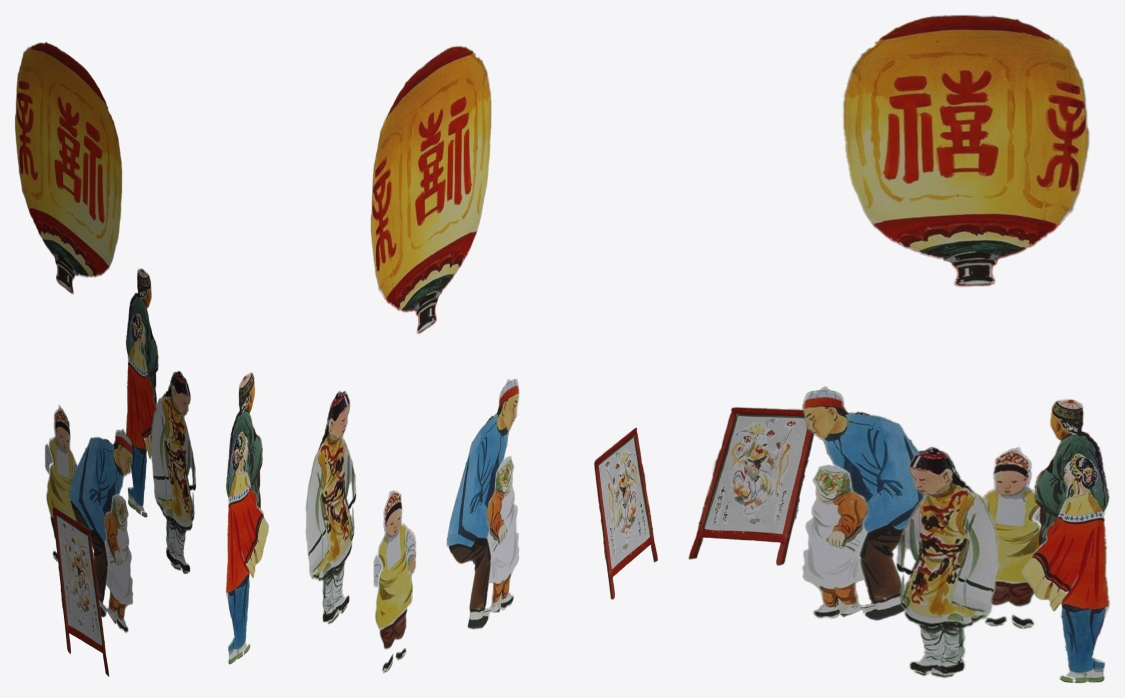
Rendered from jlee.glb.
3 views of the same model, side by side, from view 1: azimuth 30°, elevation 25°; view 2: azimuth 150°, elevation 25°; view 3: azimuth 270°, elevation 25° (orthographic). The views are drawn at different scales.
Visible parts, largest first — view 1: Chinese-Opera-1565907847218-ChinatownTheater_6_0000_Layer-1, Chinese-Opera-1565907847218-ChinatownTheater_6_0006_Layer-7, Chinese-Opera-1565907847218-ChinatownTheater_6_0002_Layer-4, Chinese-Opera-1565907847218-ChinatownTheater_6_0003_Layer-2, Chinese-Opera-1565907847218-ChinatownTheater_6_0005_Layer-5, Chinese-Opera-1565907847218-ChinatownTheater_6_0001_Layer-3; view 2: Chinese-Opera-1565907847218-ChinatownTheater_6_0000_Layer-1, Chinese-Opera-1565907847218-ChinatownTheater_6_0006_Layer-7, Chinese-Opera-1565907847218-ChinatownTheater_6_0002_Layer-4, Chinese-Opera-1565907847218-ChinatownTheater_6_0003_Layer-2, Chinese-Opera-1565907847218-ChinatownTheater_6_0005_Layer-5, Chinese-Opera-1565907847218-ChinatownTheater_6_0001_Layer-3; view 3: Chinese-Opera-1565907847218-ChinatownTheater_6_0000_Layer-1, Chinese-Opera-1565907847218-ChinatownTheater_6_0006_Layer-7, Chinese-Opera-1565907847218-ChinatownTheater_6_0002_Layer-4, Chinese-Opera-1565907847218-ChinatownTheater_6_0003_Layer-2, Chinese-Opera-1565907847218-ChinatownTheater_6_0005_Layer-5, Chinese-Opera-1565907847218-ChinatownTheater_6_0001_Layer-3.
Boxes of the visible parts, bbox=[...] form: Chinese-Opera-1565907847218-ChinatownTheater_6_0000_Layer-1: bbox=[15, 42, 122, 293]; Chinese-Opera-1565907847218-ChinatownTheater_6_0006_Layer-7: bbox=[68, 429, 133, 632]; Chinese-Opera-1565907847218-ChinatownTheater_6_0002_Layer-4: bbox=[151, 371, 195, 574]; Chinese-Opera-1565907847218-ChinatownTheater_6_0003_Layer-2: bbox=[126, 268, 158, 517]; Chinese-Opera-1565907847218-ChinatownTheater_6_0005_Layer-5: bbox=[52, 506, 109, 676]; Chinese-Opera-1565907847218-ChinatownTheater_6_0001_Layer-3: bbox=[45, 405, 77, 561]; Chinese-Opera-1565907847218-ChinatownTheater_6_0000_Layer-1: bbox=[370, 46, 491, 333]; Chinese-Opera-1565907847218-ChinatownTheater_6_0006_Layer-7: bbox=[446, 379, 519, 629]; Chinese-Opera-1565907847218-ChinatownTheater_6_0002_Layer-4: bbox=[305, 391, 356, 624]; Chinese-Opera-1565907847218-ChinatownTheater_6_0003_Layer-2: bbox=[226, 372, 268, 664]; Chinese-Opera-1565907847218-ChinatownTheater_6_0005_Layer-5: bbox=[594, 427, 657, 599]; Chinese-Opera-1565907847218-ChinatownTheater_6_0001_Layer-3: bbox=[373, 490, 415, 673]; Chinese-Opera-1565907847218-ChinatownTheater_6_0000_Layer-1: bbox=[843, 15, 1089, 286]; Chinese-Opera-1565907847218-ChinatownTheater_6_0006_Layer-7: bbox=[802, 386, 923, 620]; Chinese-Opera-1565907847218-ChinatownTheater_6_0002_Layer-4: bbox=[896, 447, 999, 677]; Chinese-Opera-1565907847218-ChinatownTheater_6_0003_Layer-2: bbox=[1022, 399, 1109, 682]; Chinese-Opera-1565907847218-ChinatownTheater_6_0005_Layer-5: bbox=[688, 407, 814, 565]; Chinese-Opera-1565907847218-ChinatownTheater_6_0001_Layer-3: bbox=[982, 447, 1042, 628].
Size of the model in its own units: 3.3 by 8.41 by 5.28.
Materials: 6 (6 with a texture image).
